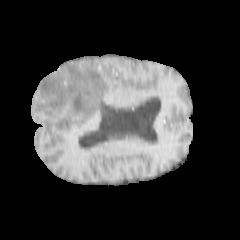glioma: (39, 63, 111, 119)
